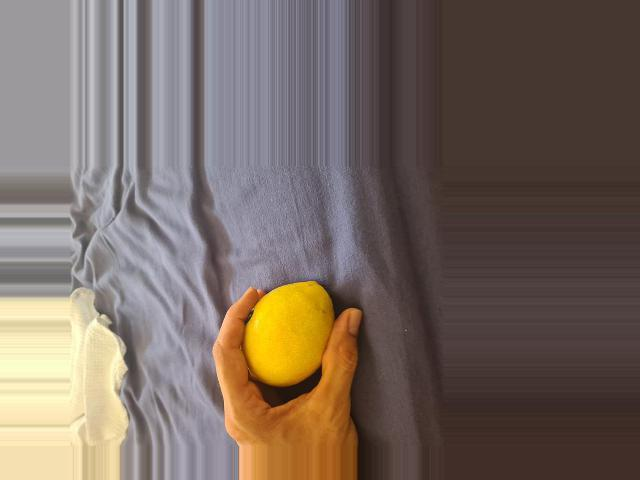lemon: (235, 280, 332, 385)
